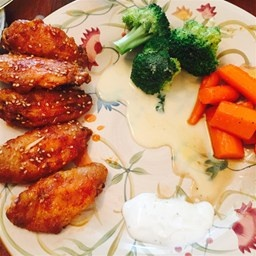background: (0, 6, 44, 93), (44, 0, 102, 64)
